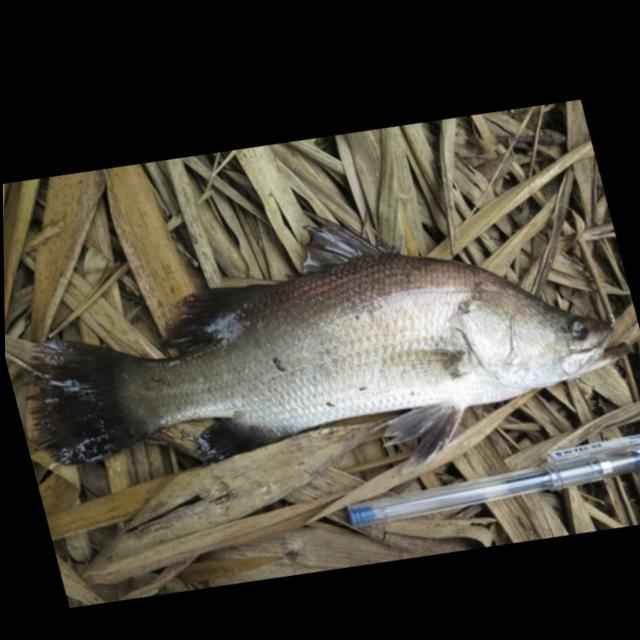Seabass: (2, 109, 640, 580)
